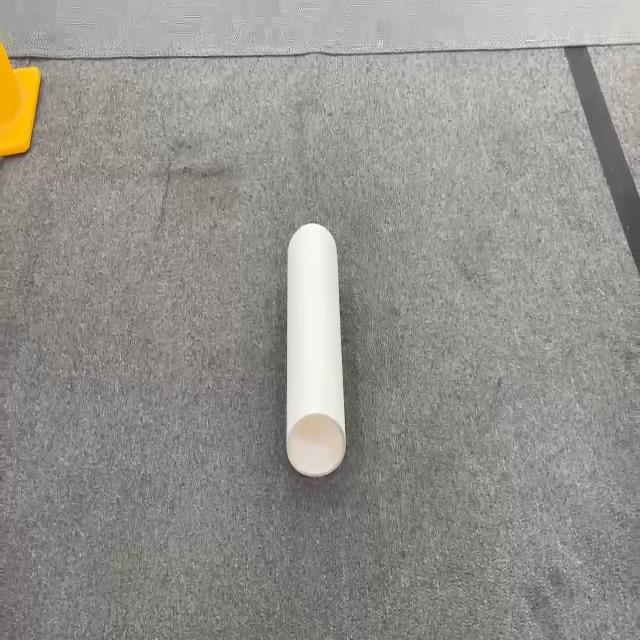coral: (285, 222, 347, 478)
